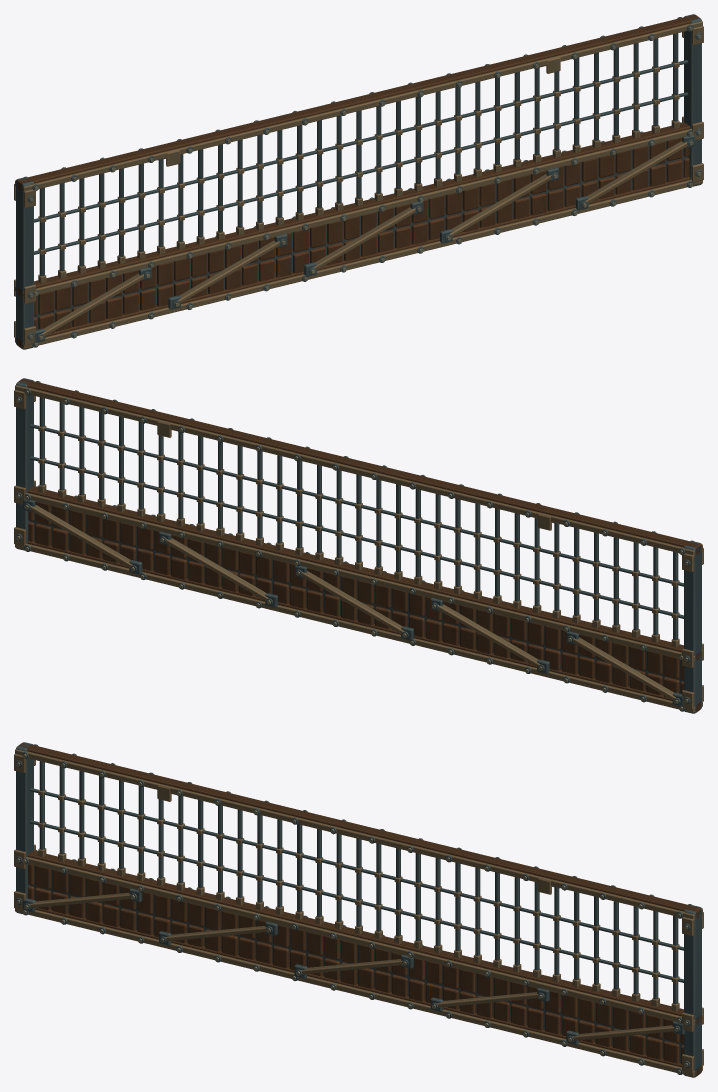
File: sluice_leaf_30.glb
The picture shows the model from 3 angles, top to bottom: view 1: azimuth 30°, elevation 25°; view 2: azimuth 150°, elevation 25°; view 3: azimuth 330°, elevation 25°; orthographic projection.
Visible parts, largest first — view 1: sluice_leaf_30; view 2: sluice_leaf_30; view 3: sluice_leaf_30.
Part boxes in pixels (x1,y1,x2,y2): sluice_leaf_30: (14,14,703,349); sluice_leaf_30: (14,378,703,713); sluice_leaf_30: (14,742,703,1077).
Size of the model in its own units: 30 by 7 by 1.21.
4 materials, 1 textured.
